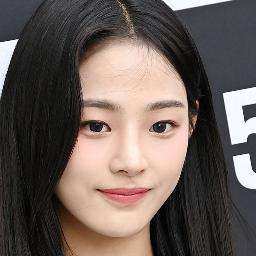face: (64, 50, 188, 234)
